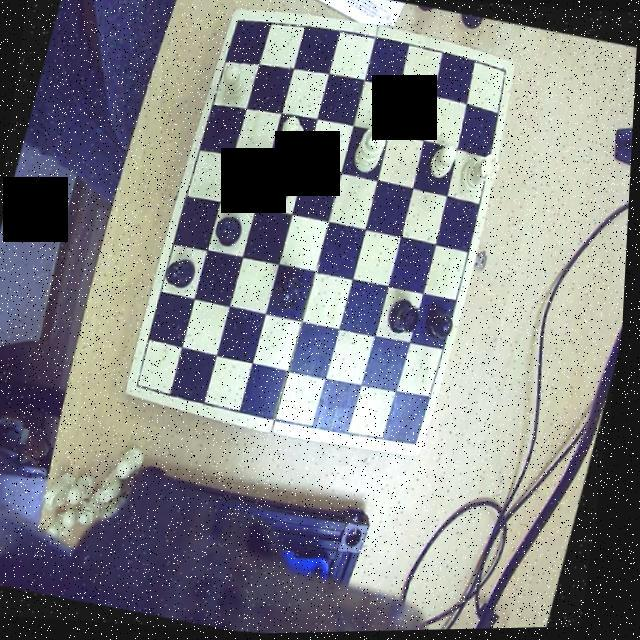chess-table-corners: (403, 428, 430, 456), (131, 373, 157, 400), (490, 59, 514, 84), (228, 9, 248, 39)
